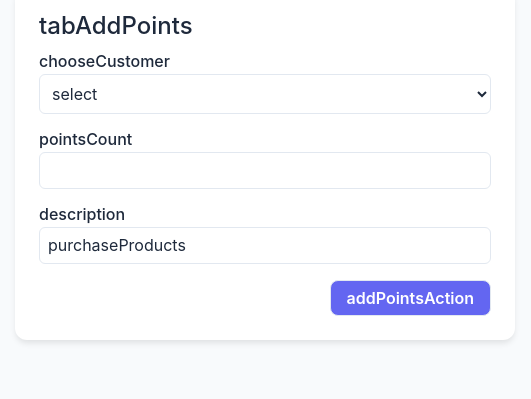
it: AddPointsSection › blocks a submit with no customer and no point count
Click the button "addPointsAction" at (410,298), box [330, 280, 491, 316]
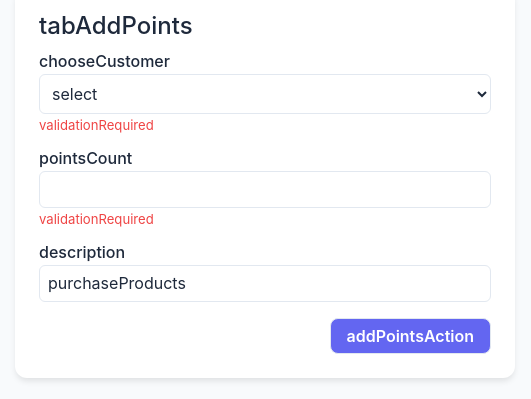
Check: the text "validationRequired" below "chooseCustomer" is shown, box [39, 117, 154, 133]
